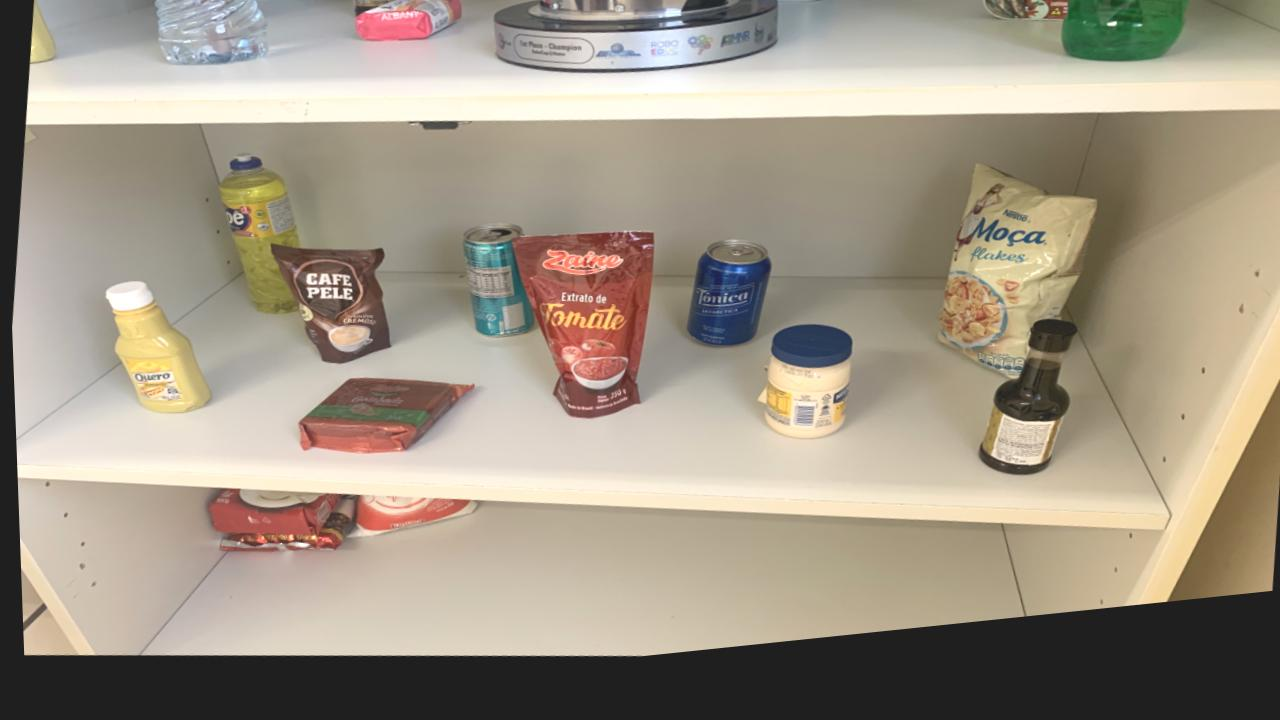Cleaner-Cleanup_Items: (748, 0, 836, 18)
Coffee-Pantry_Items: (269, 252, 388, 370)
Detergent-Cleanup_Items: (217, 159, 298, 318), (1061, 0, 1198, 85)
English_Sauce-Pantry_Items: (975, 341, 1074, 496), (353, 0, 414, 20)
Flakes-Snacks: (934, 185, 1094, 399)
Guava-Snacks: (294, 385, 469, 460)
Mayonnaise-Pantry_Items: (760, 341, 849, 455)
Mustard-Pantry_Items: (104, 284, 207, 415), (29, 0, 56, 64)
Soap-Cleanup_Items: (356, 5, 462, 49)
Tea-Drinks: (460, 234, 532, 347)
Tomato_Sauce-Pantry_Items: (509, 244, 652, 431)
Tonic-Drinks: (683, 255, 768, 361)
Tuna_Can-Pantry_Items: (982, 0, 1074, 42)
Water_Bottle-Drinks: (154, 0, 268, 69)
